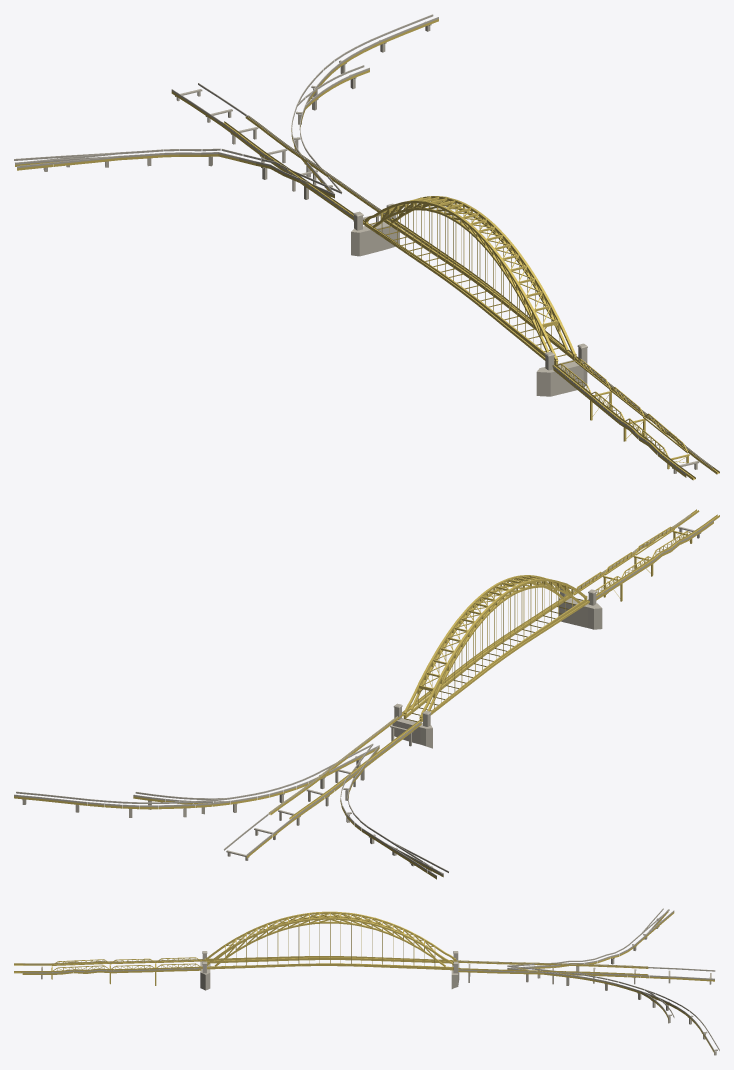
The model's file is pit-west-end-bridge.detail.glb.
The picture shows the model from 3 angles, top to bottom: view 1: azimuth 30°, elevation 25°; view 2: azimuth 150°, elevation 25°; view 3: azimuth 270°, elevation 25°; orthographic projection. The views are drawn at different scales.
Visible parts, largest first — view 1: West End Bridge; view 2: West End Bridge; view 3: West End Bridge.
Boxes of the visible parts, x1,y1,x2,y2 form: West End Bridge: (14,14,719,480); West End Bridge: (14,509,719,879); West End Bridge: (14,908,719,1055).
Bounding box in the file's own units: 331 × 71.69 × 668.
